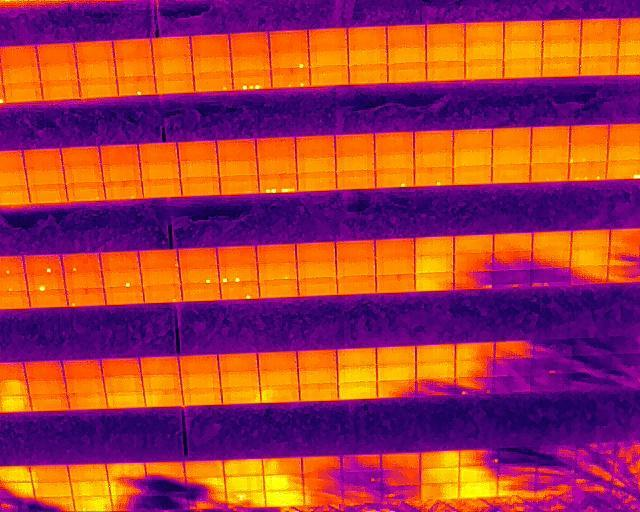Cell: (117, 76, 156, 96), (414, 167, 453, 186), (194, 73, 233, 92), (25, 255, 63, 274), (375, 169, 415, 187), (62, 253, 101, 271), (270, 50, 309, 68), (143, 284, 182, 302), (66, 289, 105, 307), (220, 282, 260, 299), (139, 250, 178, 267), (180, 268, 219, 285), (26, 274, 65, 291), (103, 269, 141, 286), (257, 263, 297, 279)
Cell-Multi: (271, 68, 310, 87), (568, 162, 607, 180), (232, 71, 271, 89), (454, 377, 494, 394), (570, 144, 608, 161), (219, 266, 259, 282)
No-Anomaly: (580, 18, 620, 41), (295, 136, 335, 158), (335, 134, 375, 155), (256, 138, 296, 159), (307, 29, 347, 50), (217, 246, 256, 267), (269, 31, 308, 52), (178, 141, 218, 161), (61, 147, 101, 167), (504, 21, 544, 41), (38, 61, 78, 81), (1, 63, 41, 83), (348, 64, 388, 84), (309, 65, 349, 85), (139, 142, 178, 162), (230, 32, 269, 52), (152, 37, 191, 57), (579, 55, 618, 75), (386, 26, 425, 46), (348, 27, 387, 47), (155, 74, 194, 94), (41, 80, 80, 100), (296, 349, 337, 368), (28, 464, 71, 482), (99, 145, 139, 164), (529, 163, 569, 182), (491, 164, 531, 183), (452, 165, 492, 184), (335, 170, 375, 189), (103, 180, 143, 199), (67, 182, 105, 202), (28, 184, 68, 203), (178, 248, 218, 267), (114, 38, 152, 58), (569, 124, 609, 143), (492, 128, 532, 147), (413, 131, 453, 150), (374, 132, 414, 151), (425, 24, 465, 43), (3, 83, 43, 102), (217, 140, 256, 159), (23, 148, 62, 167), (181, 177, 220, 196), (142, 179, 181, 198), (572, 230, 611, 249), (532, 231, 571, 250), (415, 254, 454, 273), (190, 35, 229, 54), (542, 39, 581, 58), (465, 41, 504, 60), (231, 53, 270, 72), (192, 54, 231, 73), (415, 273, 454, 292), (542, 20, 581, 39), (541, 57, 580, 76), (426, 61, 465, 80), (387, 63, 426, 82), (79, 78, 118, 97), (296, 172, 337, 190), (257, 352, 298, 370), (100, 358, 141, 376), (63, 359, 104, 377), (0, 46, 38, 65), (154, 56, 192, 75), (466, 23, 504, 42), (25, 167, 65, 185), (454, 235, 494, 253), (375, 238, 415, 256), (256, 245, 296, 263), (375, 257, 415, 275), (262, 457, 302, 475), (68, 462, 108, 480), (580, 39, 620, 57), (74, 41, 114, 59), (453, 130, 493, 148), (456, 342, 496, 360), (416, 344, 456, 362), (376, 346, 416, 364), (337, 348, 377, 366), (218, 352, 258, 370), (179, 355, 219, 373), (140, 356, 180, 374), (337, 381, 377, 399), (114, 58, 154, 76), (76, 60, 116, 78), (531, 145, 570, 163), (414, 150, 453, 168), (220, 176, 259, 194), (493, 233, 532, 251), (415, 237, 454, 255), (336, 240, 375, 258), (296, 243, 335, 261), (106, 463, 145, 481), (426, 44, 465, 62), (37, 44, 76, 62), (387, 46, 426, 64), (348, 47, 387, 65), (531, 126, 570, 144), (376, 275, 415, 293), (337, 276, 376, 294), (259, 280, 298, 298), (261, 385, 300, 403), (503, 59, 542, 77), (465, 60, 504, 78), (65, 377, 106, 394), (374, 152, 414, 169), (217, 159, 257, 176), (101, 164, 141, 181), (63, 165, 103, 182), (336, 258, 376, 275), (297, 261, 337, 278), (183, 388, 223, 405), (67, 392, 107, 409), (420, 451, 460, 468), (224, 459, 264, 476), (419, 467, 459, 484), (64, 272, 104, 289), (298, 278, 338, 295), (24, 360, 64, 377), (259, 369, 299, 386), (180, 373, 220, 390), (27, 378, 67, 395), (298, 383, 338, 400), (31, 481, 73, 497), (492, 147, 531, 164), (453, 148, 492, 165), (100, 251, 139, 268), (420, 483, 459, 500), (504, 42, 543, 59), (141, 268, 180, 285), (182, 284, 221, 301), (105, 287, 144, 304), (416, 362, 455, 379), (256, 158, 297, 174), (178, 160, 219, 176), (28, 394, 69, 410), (183, 461, 224, 477), (69, 481, 110, 497), (102, 376, 143, 392), (335, 155, 375, 171), (296, 156, 336, 172), (140, 162, 180, 178), (144, 390, 184, 406), (264, 474, 304, 490), (224, 476, 264, 492), (458, 481, 498, 497), (308, 49, 348, 65), (376, 364, 416, 380), (337, 366, 377, 382), (298, 368, 338, 384), (220, 371, 260, 387), (142, 374, 182, 390), (221, 387, 261, 403), (570, 249, 609, 265), (382, 453, 421, 469), (29, 292, 68, 308), (104, 391, 145, 406), (265, 490, 304, 505), (72, 497, 112, 511)
Shadowing: (530, 357, 572, 378), (529, 338, 573, 358), (143, 458, 186, 478), (571, 337, 614, 357), (570, 356, 613, 376), (493, 358, 533, 378), (108, 477, 148, 496), (492, 270, 532, 289), (453, 270, 493, 289), (144, 476, 186, 494), (535, 480, 574, 499), (494, 340, 533, 359), (453, 253, 493, 271), (498, 446, 538, 464), (531, 268, 571, 286), (376, 380, 416, 398), (458, 448, 500, 465), (532, 250, 571, 268), (492, 251, 531, 269), (569, 266, 608, 284), (342, 486, 381, 504), (534, 464, 575, 481), (341, 454, 381, 471), (301, 456, 341, 473), (459, 465, 499, 482), (302, 473, 342, 490), (381, 484, 421, 501), (454, 360, 494, 377), (491, 377, 531, 394), (415, 379, 455, 396), (184, 477, 225, 493), (225, 491, 266, 507), (497, 480, 535, 497), (109, 495, 149, 511), (497, 465, 536, 481), (380, 469, 421, 484), (341, 471, 381, 486), (303, 489, 342, 504), (35, 497, 75, 511)
Unclassified: (259, 173, 299, 192)
